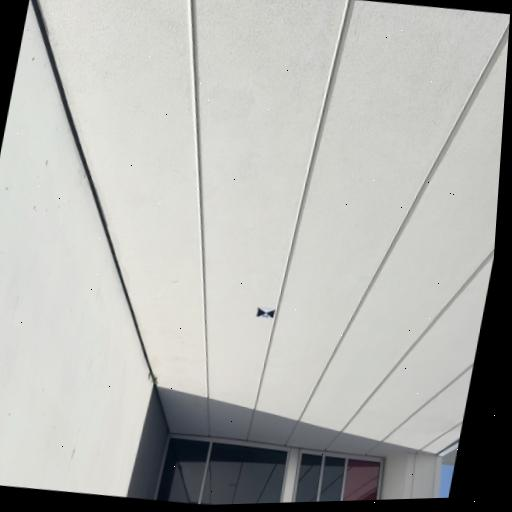target7: (256, 307, 275, 320)
